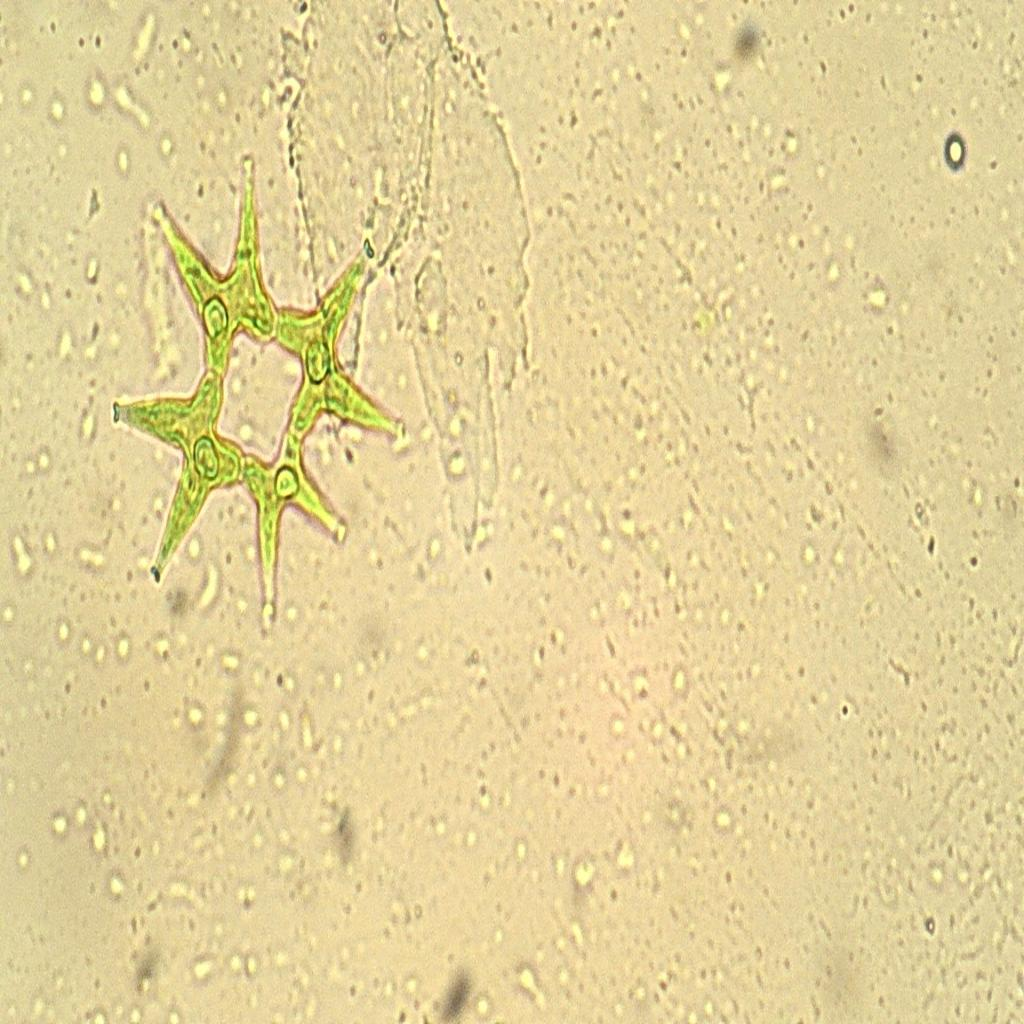Pediastrum_75O: (107, 146, 407, 650)
